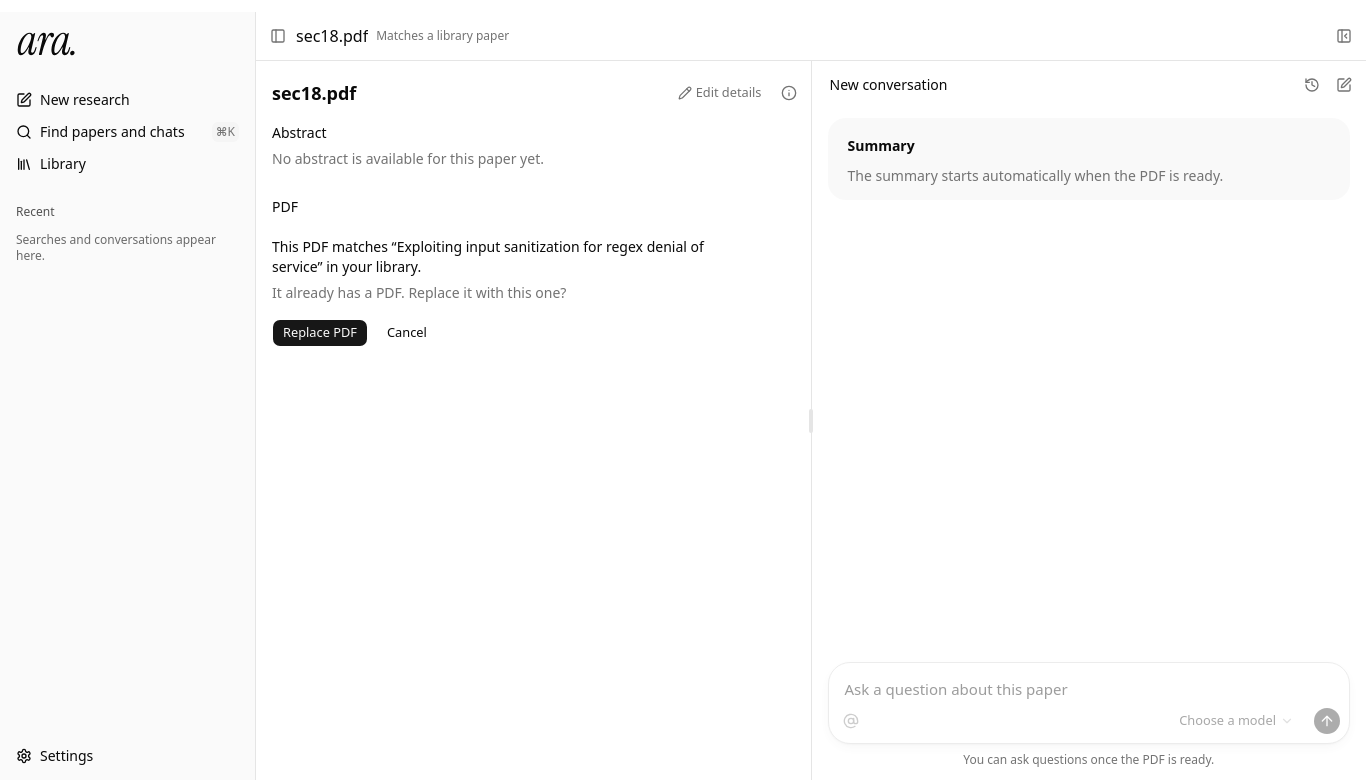
Test case: Given an upload that matches a library paper with a PDF, Then the reader asks to replace it and Replace opens that paper
Check: the text "It already has a PDF. Replace it with this one?" is shown, box top-left (272, 283), bottom-right (566, 302)
Check: the heading "Preparing the PDF" is not shown
Click the button "Replace PDF".
click(320, 333)  # box top-left (272, 319), bottom-right (368, 347)
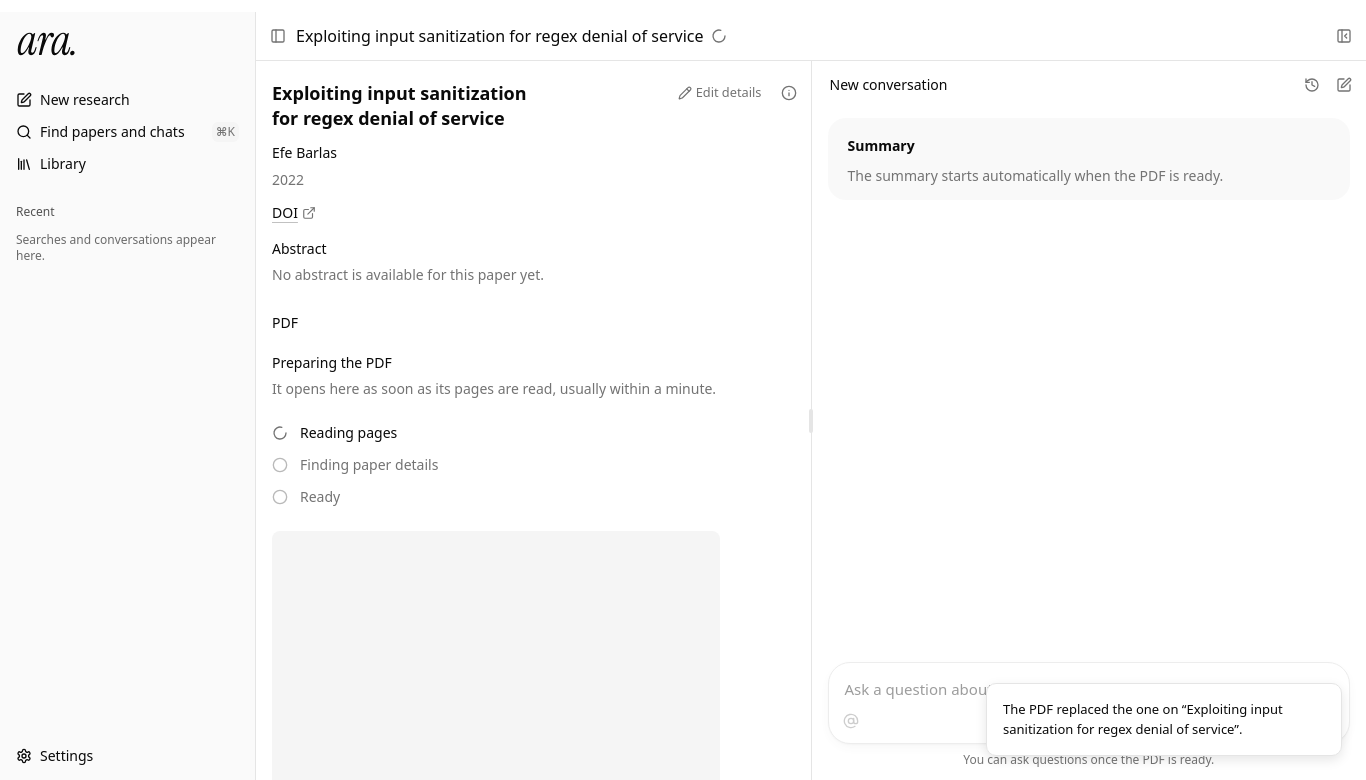
Check: the 1st heading "Exploiting input sanitization for regex denial of service" is shown, box top-left (296, 24), bottom-right (704, 48)
